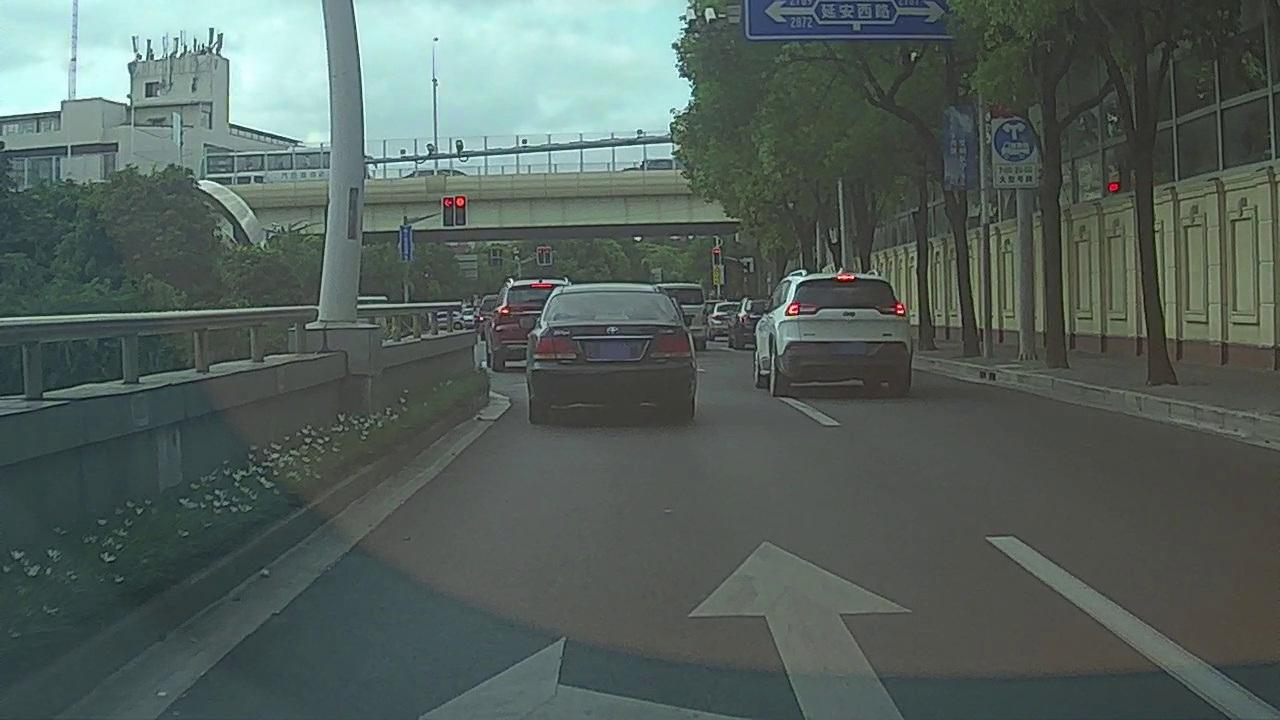traffic_light: (442, 197, 453, 227), (454, 196, 465, 226)
